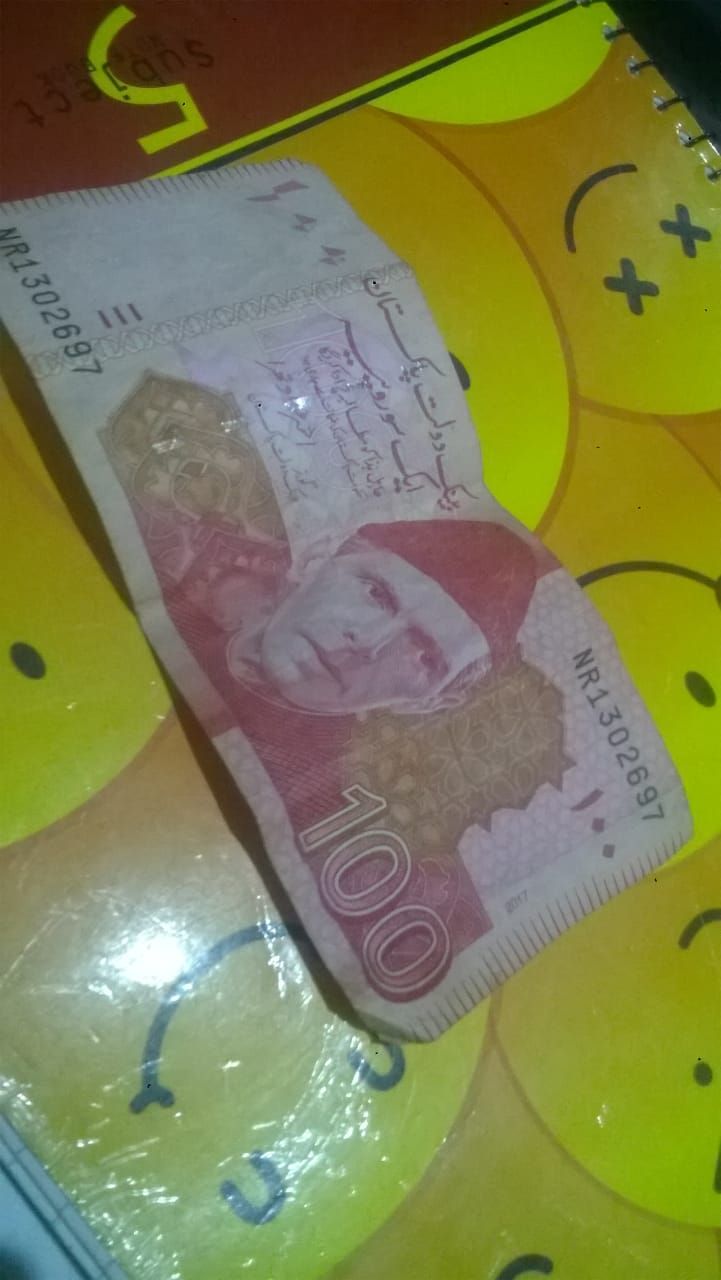100 rupee: (9, 150, 685, 1040)
